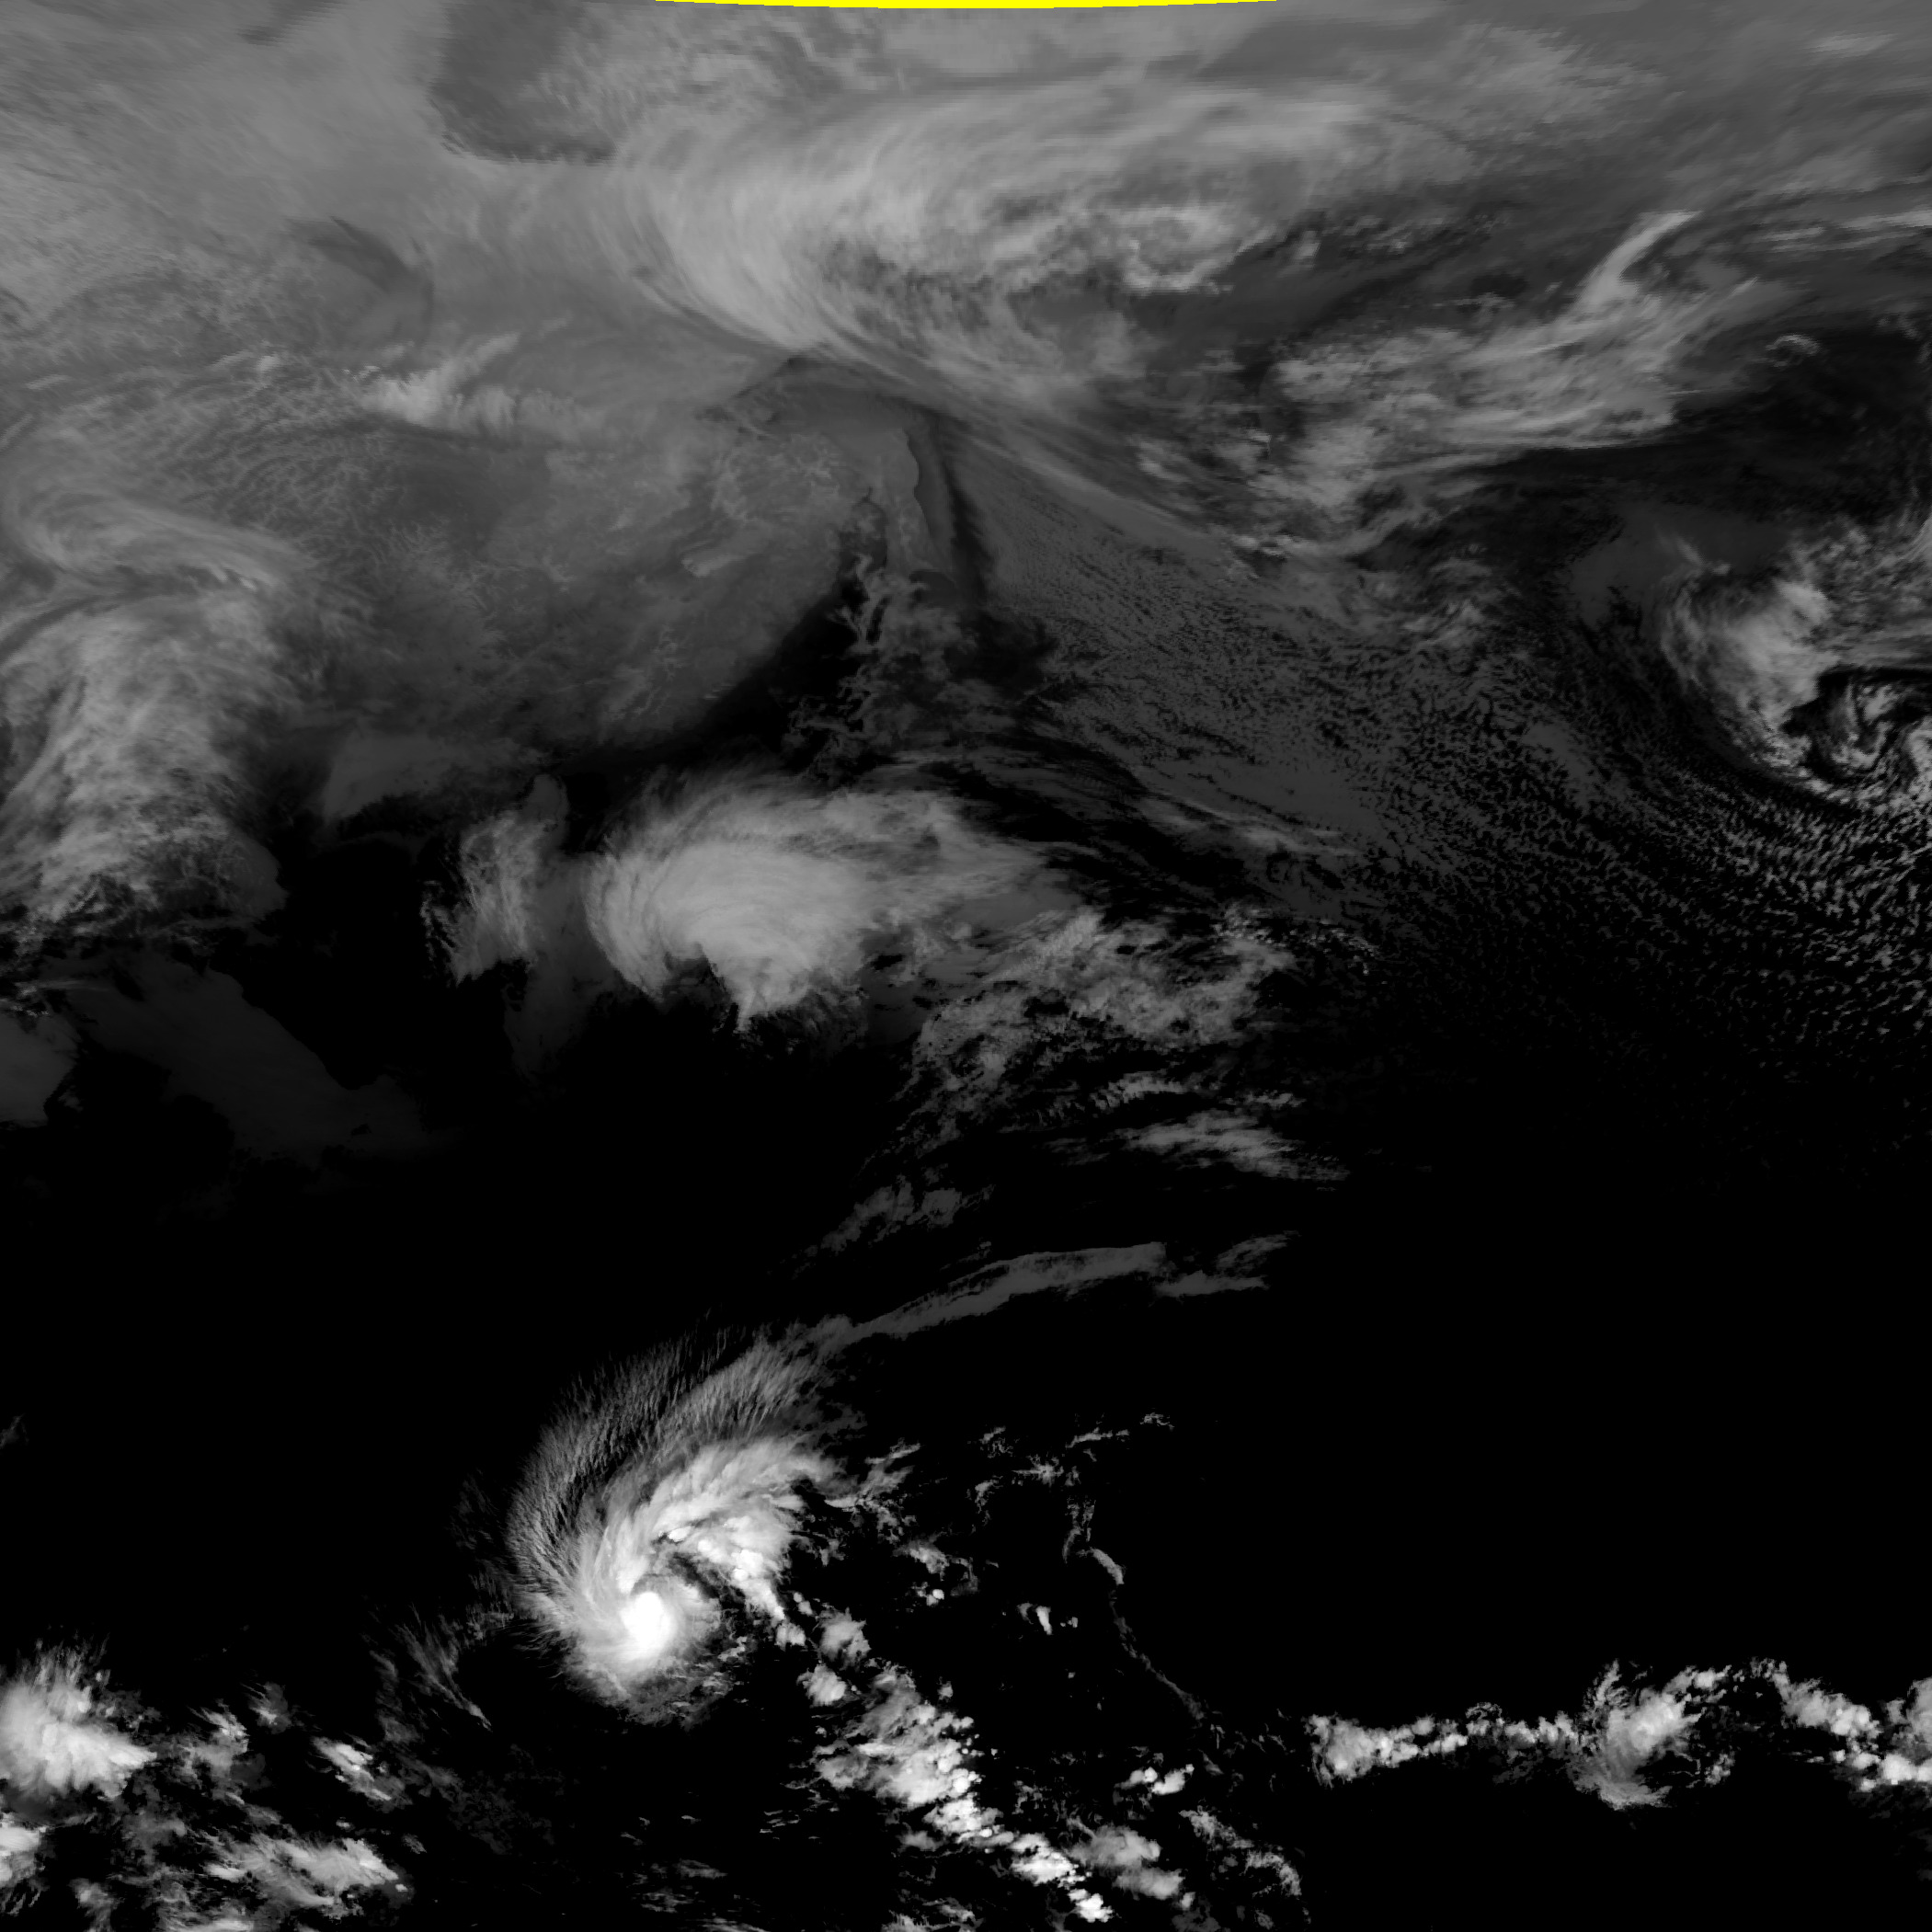Mild storm: (428, 1385, 888, 1845)
